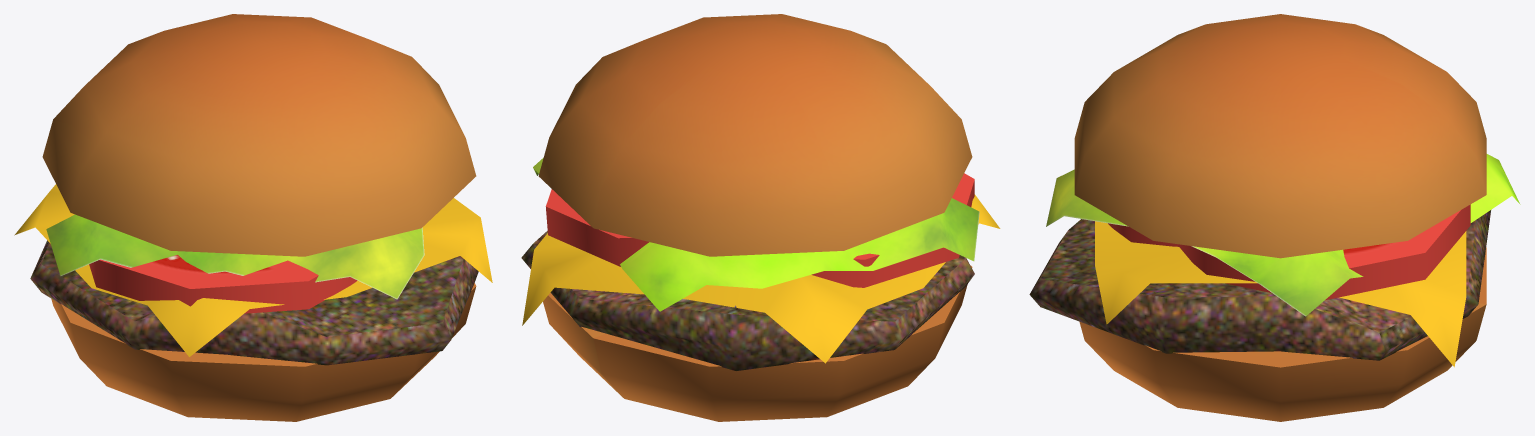
The model's file is OBJ_Hamburger_1texture.fbx.
The picture shows the model from 3 angles, left to right: view 1: azimuth 30°, elevation 25°; view 2: azimuth 150°, elevation 25°; view 3: azimuth 270°, elevation 25°; orthographic projection.
Parts seen in each view (by area): view 1: polySurface2; view 2: polySurface2; view 3: polySurface2.
Part boxes in pixels (x1,y1,x2,y2): polySurface2: (14,14,492,421); polySurface2: (521,14,1000,421); polySurface2: (1029,14,1520,421).
Bounding box in the file's own units: 15.36 × 11.18 × 15.87.
1 material, 1 textured.
